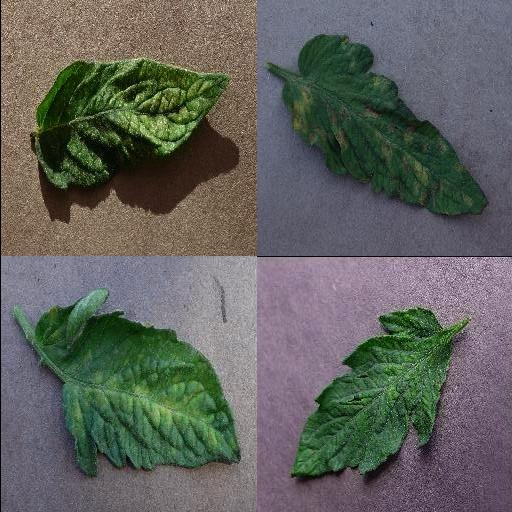Leaf Mold: (34, 290, 240, 479), (282, 36, 488, 217)
Mosaic Virus: (289, 305, 453, 478)
Spider Mites: (37, 58, 229, 188)
